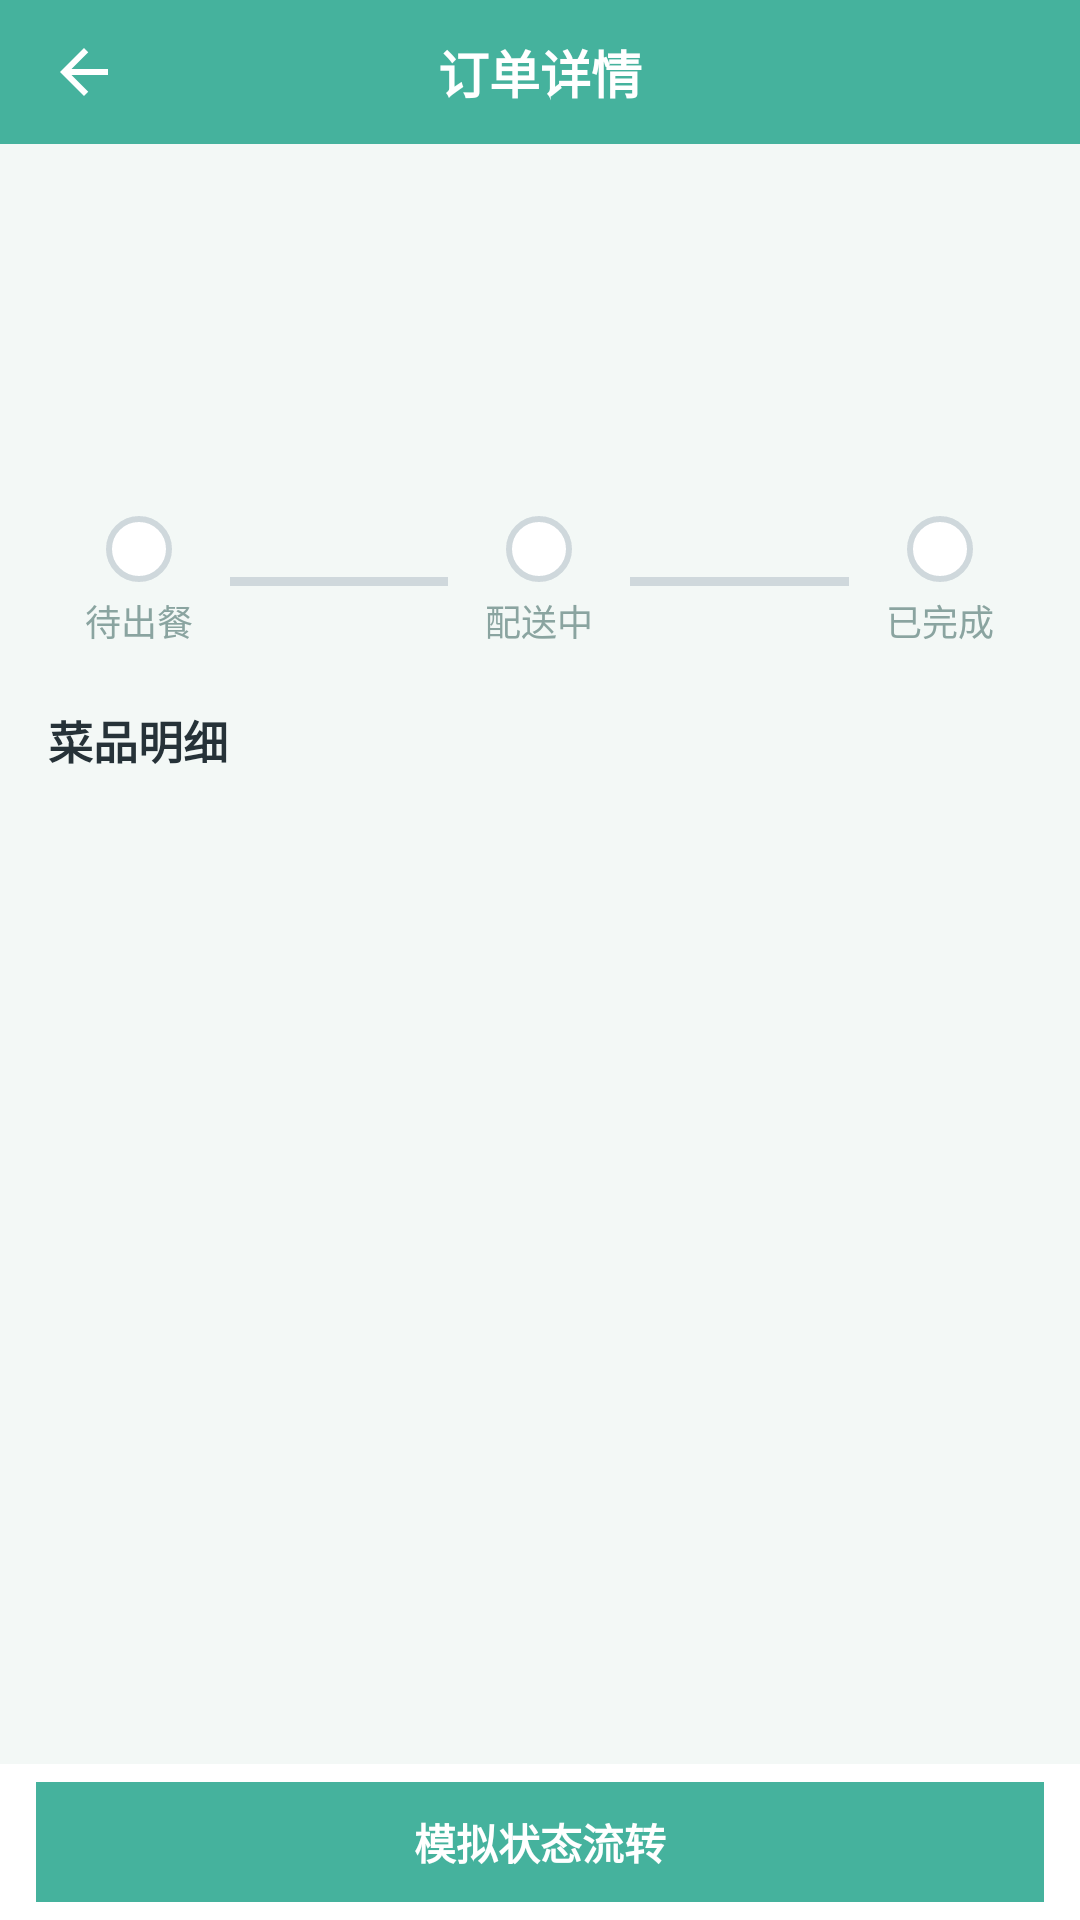

Named icons in this screenshot (1080x1920) and their centers, point (x, y):
返回: point (84, 72)
